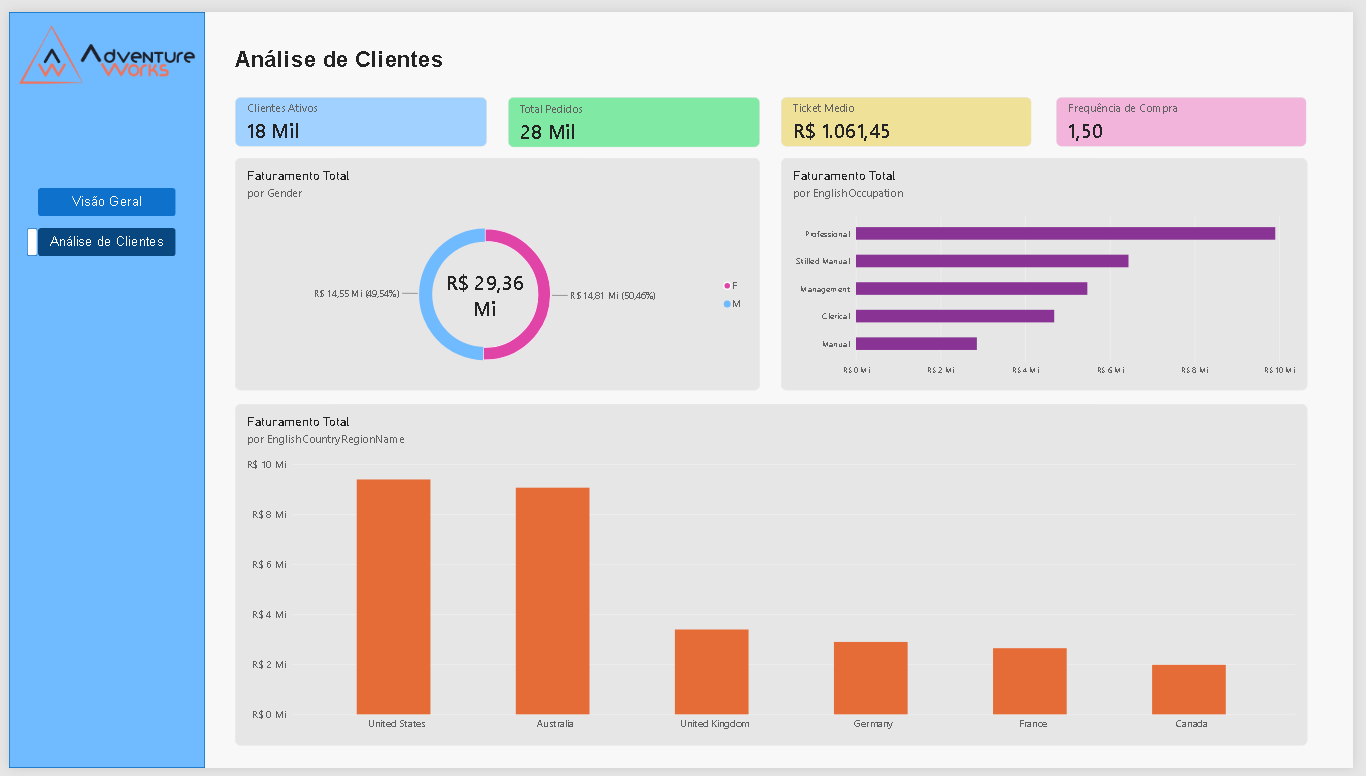

The page's visual inventory and layout, read from the dashboard file:
{"tool":"powerbi","page":{"name":"Análise de Clientes","canvas":[1920,1080],"ordinal":1},"visuals":[{"type":"shape","box":[0,0,280,1080],"z":0},{"type":"image","box":[0,0,280,122],"z":1000},{"type":"textbox","box":[323.3,48.3,360,40],"z":2000},{"type":"donutChart","title":"Faturamento por Gênero","fields":{"Category":["DimCustomer.Gender"],"Y":["FactInternetSales.Faturamento Total"]},"box":[323.3,208.3,750,331.7],"z":3000},{"type":"cardVisual","fields":{"Data":["FactInternetSales.Clientes Ativos"]},"box":[323.3,121.7,360,71.7],"z":4000},{"type":"cardVisual","fields":{"Data":["FactInternetSales.Total Pedidos"]},"box":[712.5,121.2,360,72],"z":5000},{"type":"cardVisual","fields":{"Data":["FactInternetSales.Ticket Medio"]},"box":[1103.3,121.7,358.3,71.7],"z":6000},{"type":"clusteredColumnChart","title":"Faturamento por País","fields":{"Category":["DimGeography.EnglishCountryRegionName"],"Y":["FactInternetSales.Faturamento Total"]},"box":[323.3,560,1531.7,488.3],"z":7000},{"type":"barChart","title":"Faturamento por Profissão","fields":{"Category":["DimCustomer.EnglishOccupation"],"Y":["FactInternetSales.Faturamento Total"]},"box":[1103.3,208.3,751.7,331.7],"z":8000},{"type":"actionButton","box":[41.7,250.8,196.7,40],"z":9000},{"type":"actionButton","box":[41.7,308.3,196.7,40],"z":10000},{"type":"shape","box":[25,308.5,12,40],"z":11000},{"type":"cardVisual","fields":{"Data":["FactInternetSales.Frequência de Compra"]},"box":[1495.7,121.4,358.6,71.4],"z":12000},{"type":"actionButton","box":[41.7,361.2,196.7,40],"z":12001}]}

Visuals, with their boxes in screenshot pixels (x1, y1, x2, y2), scaled from the page's 1920x1080 canvas onto the 1366x776 screenshot:
shape: (0, 0, 199, 775)
image: (0, 0, 199, 88)
textbox: (230, 35, 486, 63)
"Faturamento por Gênero" donutChart: (230, 150, 764, 388)
cardVisual - FactInternetSales.Clientes Ativos: (230, 87, 486, 139)
cardVisual - FactInternetSales.Total Pedidos: (507, 87, 763, 139)
cardVisual - FactInternetSales.Ticket Medio: (785, 87, 1040, 139)
"Faturamento por País" clusteredColumnChart: (230, 402, 1320, 753)
"Faturamento por Profissão" barChart: (785, 150, 1320, 388)
actionButton: (30, 180, 170, 209)
actionButton: (30, 222, 170, 250)
shape: (18, 222, 26, 250)
cardVisual - FactInternetSales.Frequência de Compra: (1064, 87, 1319, 139)
actionButton: (30, 260, 170, 288)
